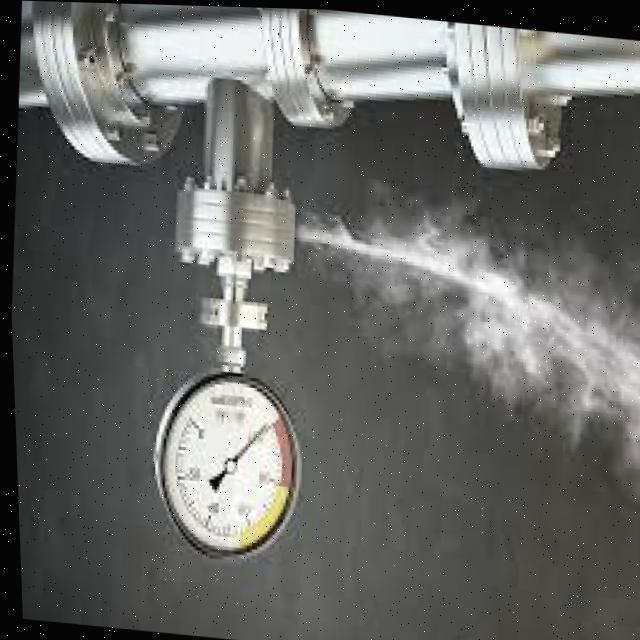corrosion: (255, 96, 477, 319)
